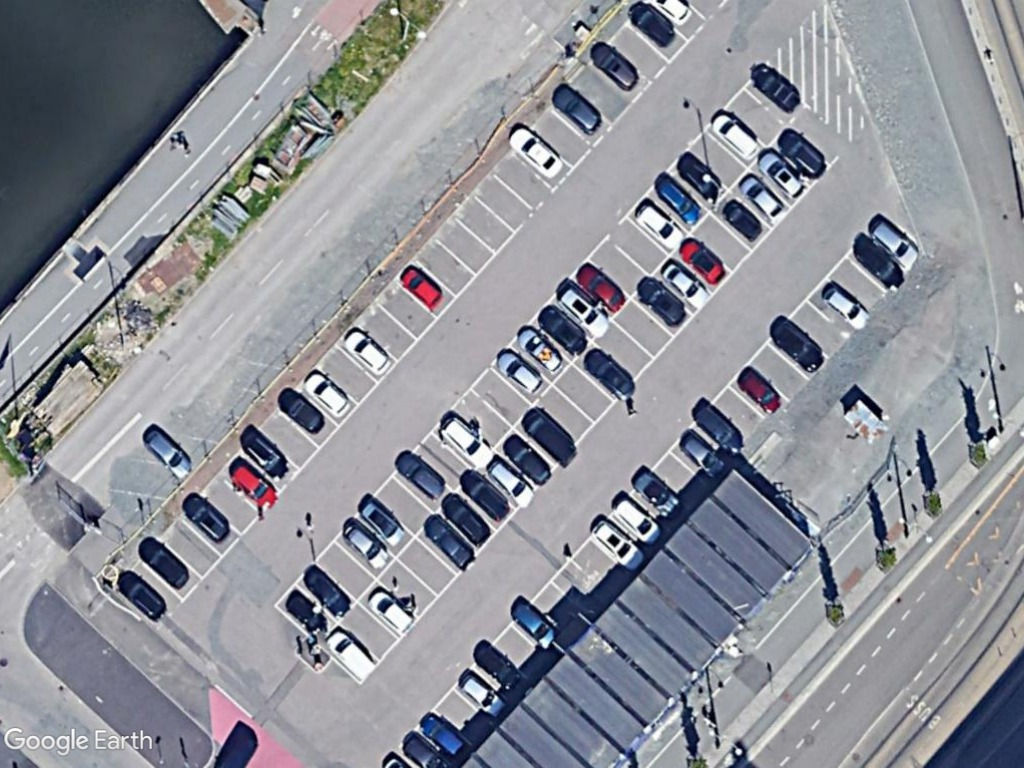car: (585, 512, 655, 578), (504, 120, 572, 186), (431, 409, 500, 474), (577, 338, 642, 405), (415, 507, 479, 573), (497, 426, 560, 491), (847, 230, 912, 293), (550, 280, 616, 342), (685, 401, 752, 462), (767, 315, 830, 379), (631, 267, 694, 330), (238, 422, 299, 487), (111, 565, 174, 627), (863, 213, 929, 272), (547, 77, 608, 140), (533, 302, 598, 361), (454, 459, 513, 524), (734, 161, 790, 229), (655, 252, 717, 313), (616, 0, 682, 57), (176, 490, 238, 550), (705, 107, 768, 166), (337, 322, 398, 382), (471, 641, 533, 700), (222, 457, 282, 517), (139, 422, 197, 484), (628, 196, 691, 253), (771, 126, 834, 183), (668, 234, 732, 290), (649, 173, 709, 232), (453, 663, 512, 723), (334, 518, 395, 576), (818, 280, 879, 338), (413, 712, 476, 768), (588, 38, 646, 98), (433, 487, 491, 547), (608, 492, 668, 550), (491, 343, 553, 399), (573, 259, 631, 318), (750, 143, 808, 202), (362, 581, 420, 640), (506, 596, 565, 654), (676, 151, 734, 209), (301, 563, 359, 621), (512, 320, 569, 379), (392, 448, 451, 505), (301, 365, 357, 424), (352, 498, 411, 554), (479, 449, 534, 507), (734, 363, 787, 422), (275, 385, 331, 439), (395, 262, 448, 315)
van: (517, 405, 585, 472), (321, 624, 380, 687)
